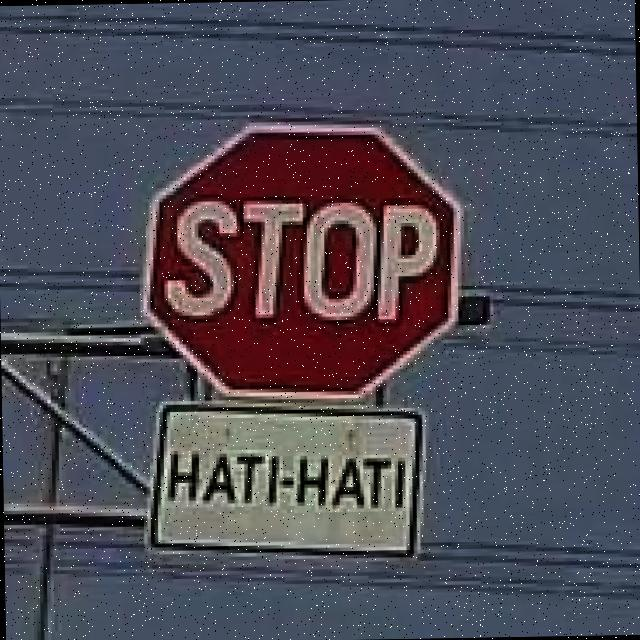Stop: (150, 114, 464, 404)
